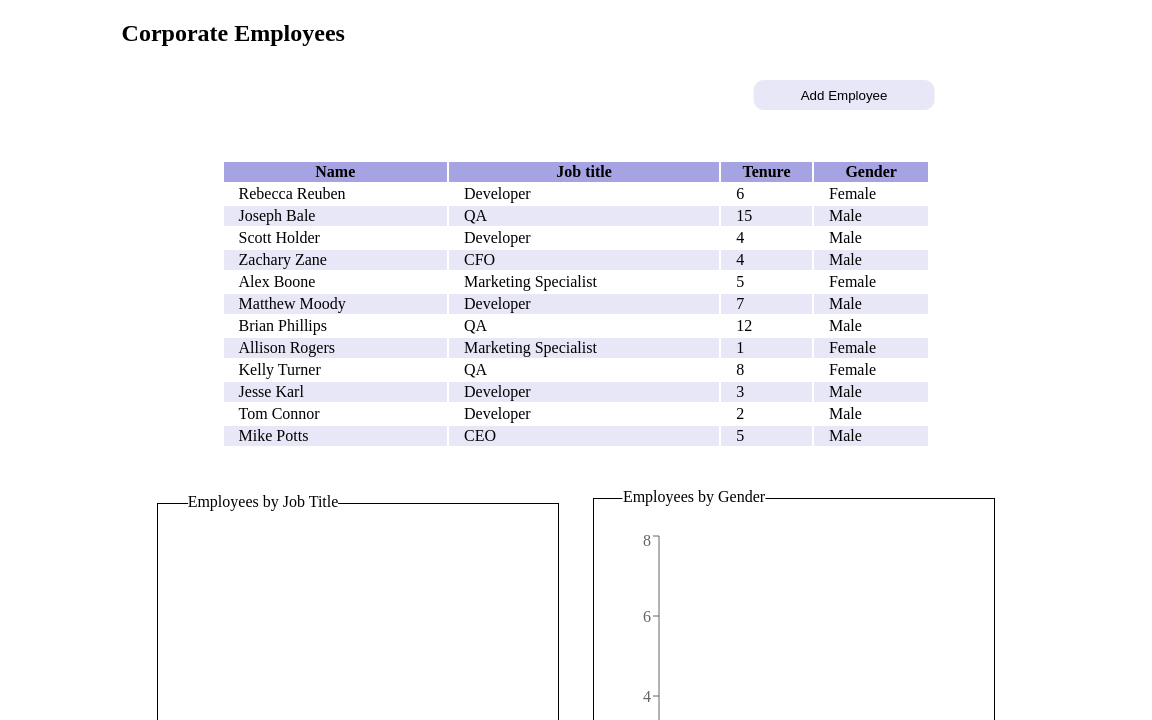
Test: testing App › renders form on click button
Click the button at (844, 95), box [753,80,935,110]
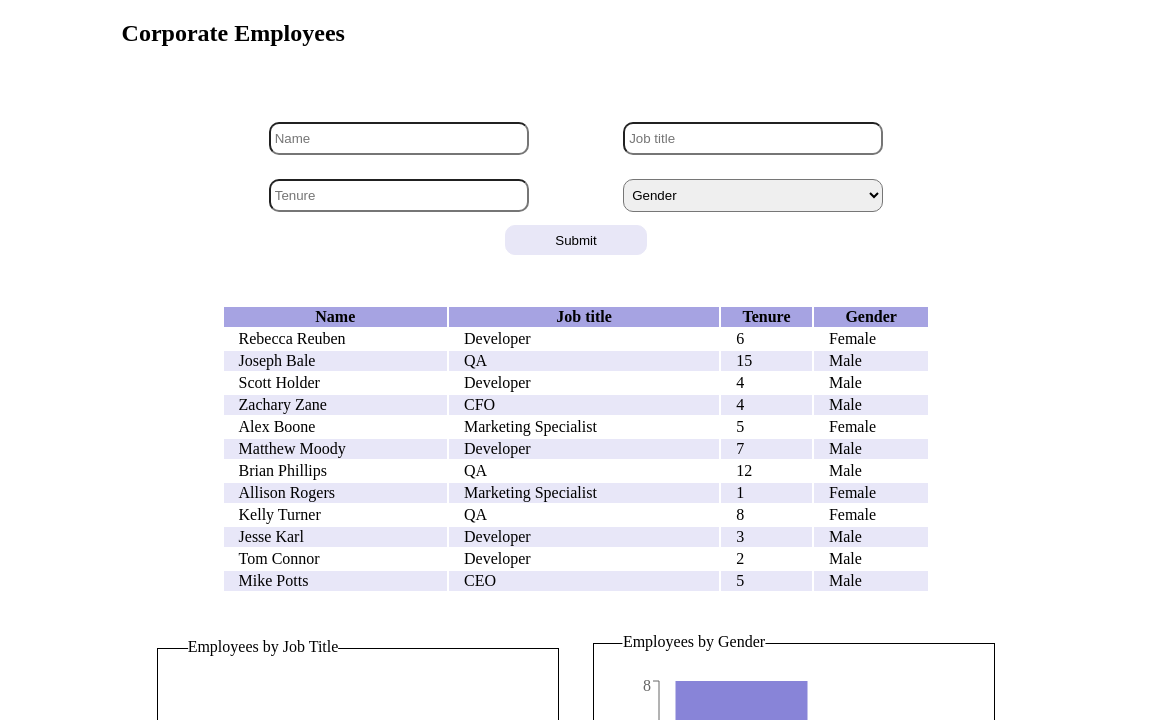
Now the form is shown, box [222,97,930,255]
